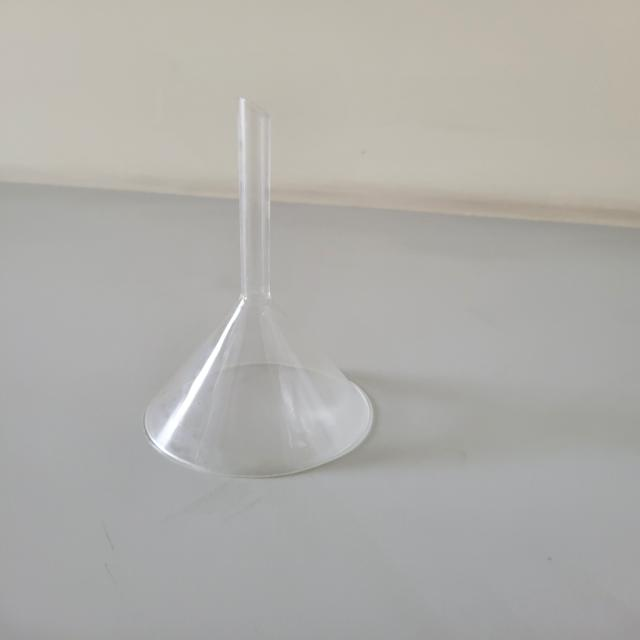Funnel: (125, 66, 406, 508)
